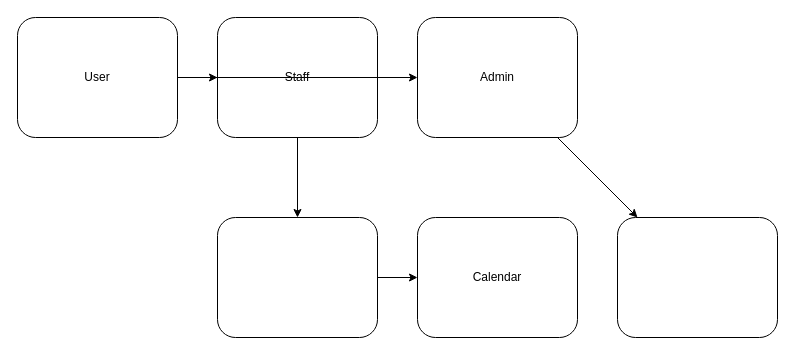
The diagram is 795 pixels wide and 355 high, and some of its shapes have lost their labels. Here are the shapes that lost their labels. From the top down, the box of each, then its label:
(216, 216, 378, 338): Meeting
(616, 216, 778, 338): AcademicCalendar
